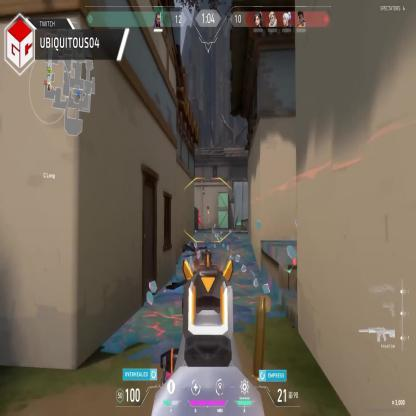enemy: (197, 209, 203, 229)
enemy_head: (196, 209, 199, 214)
